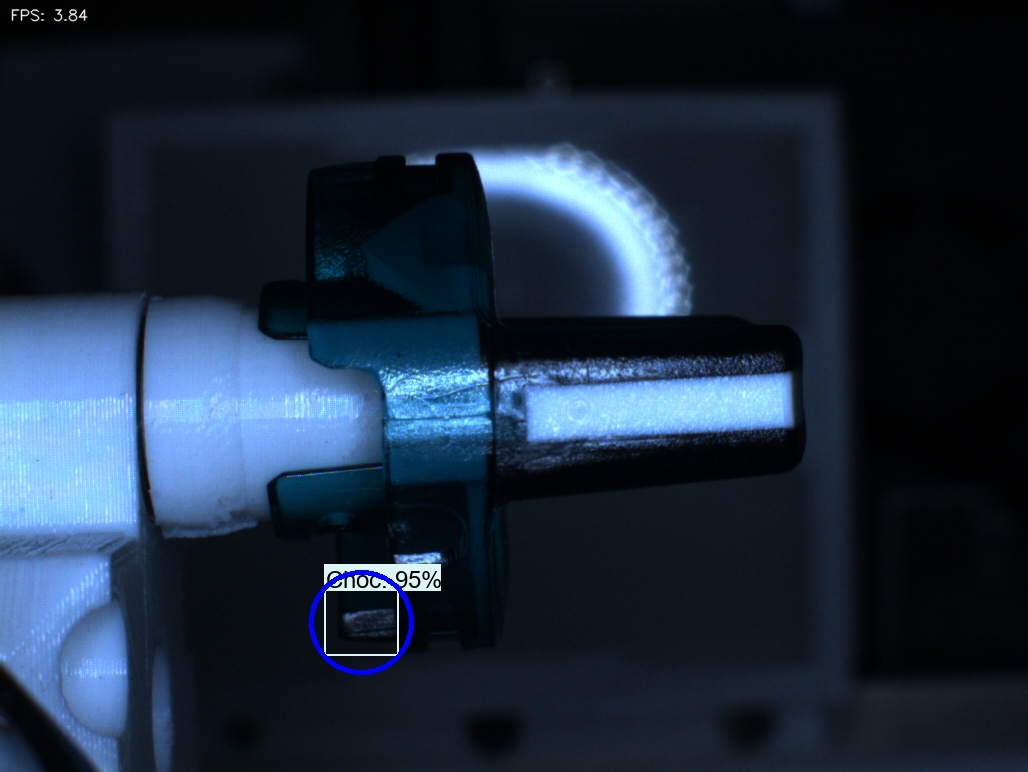DentOk: (343, 210, 413, 300)
